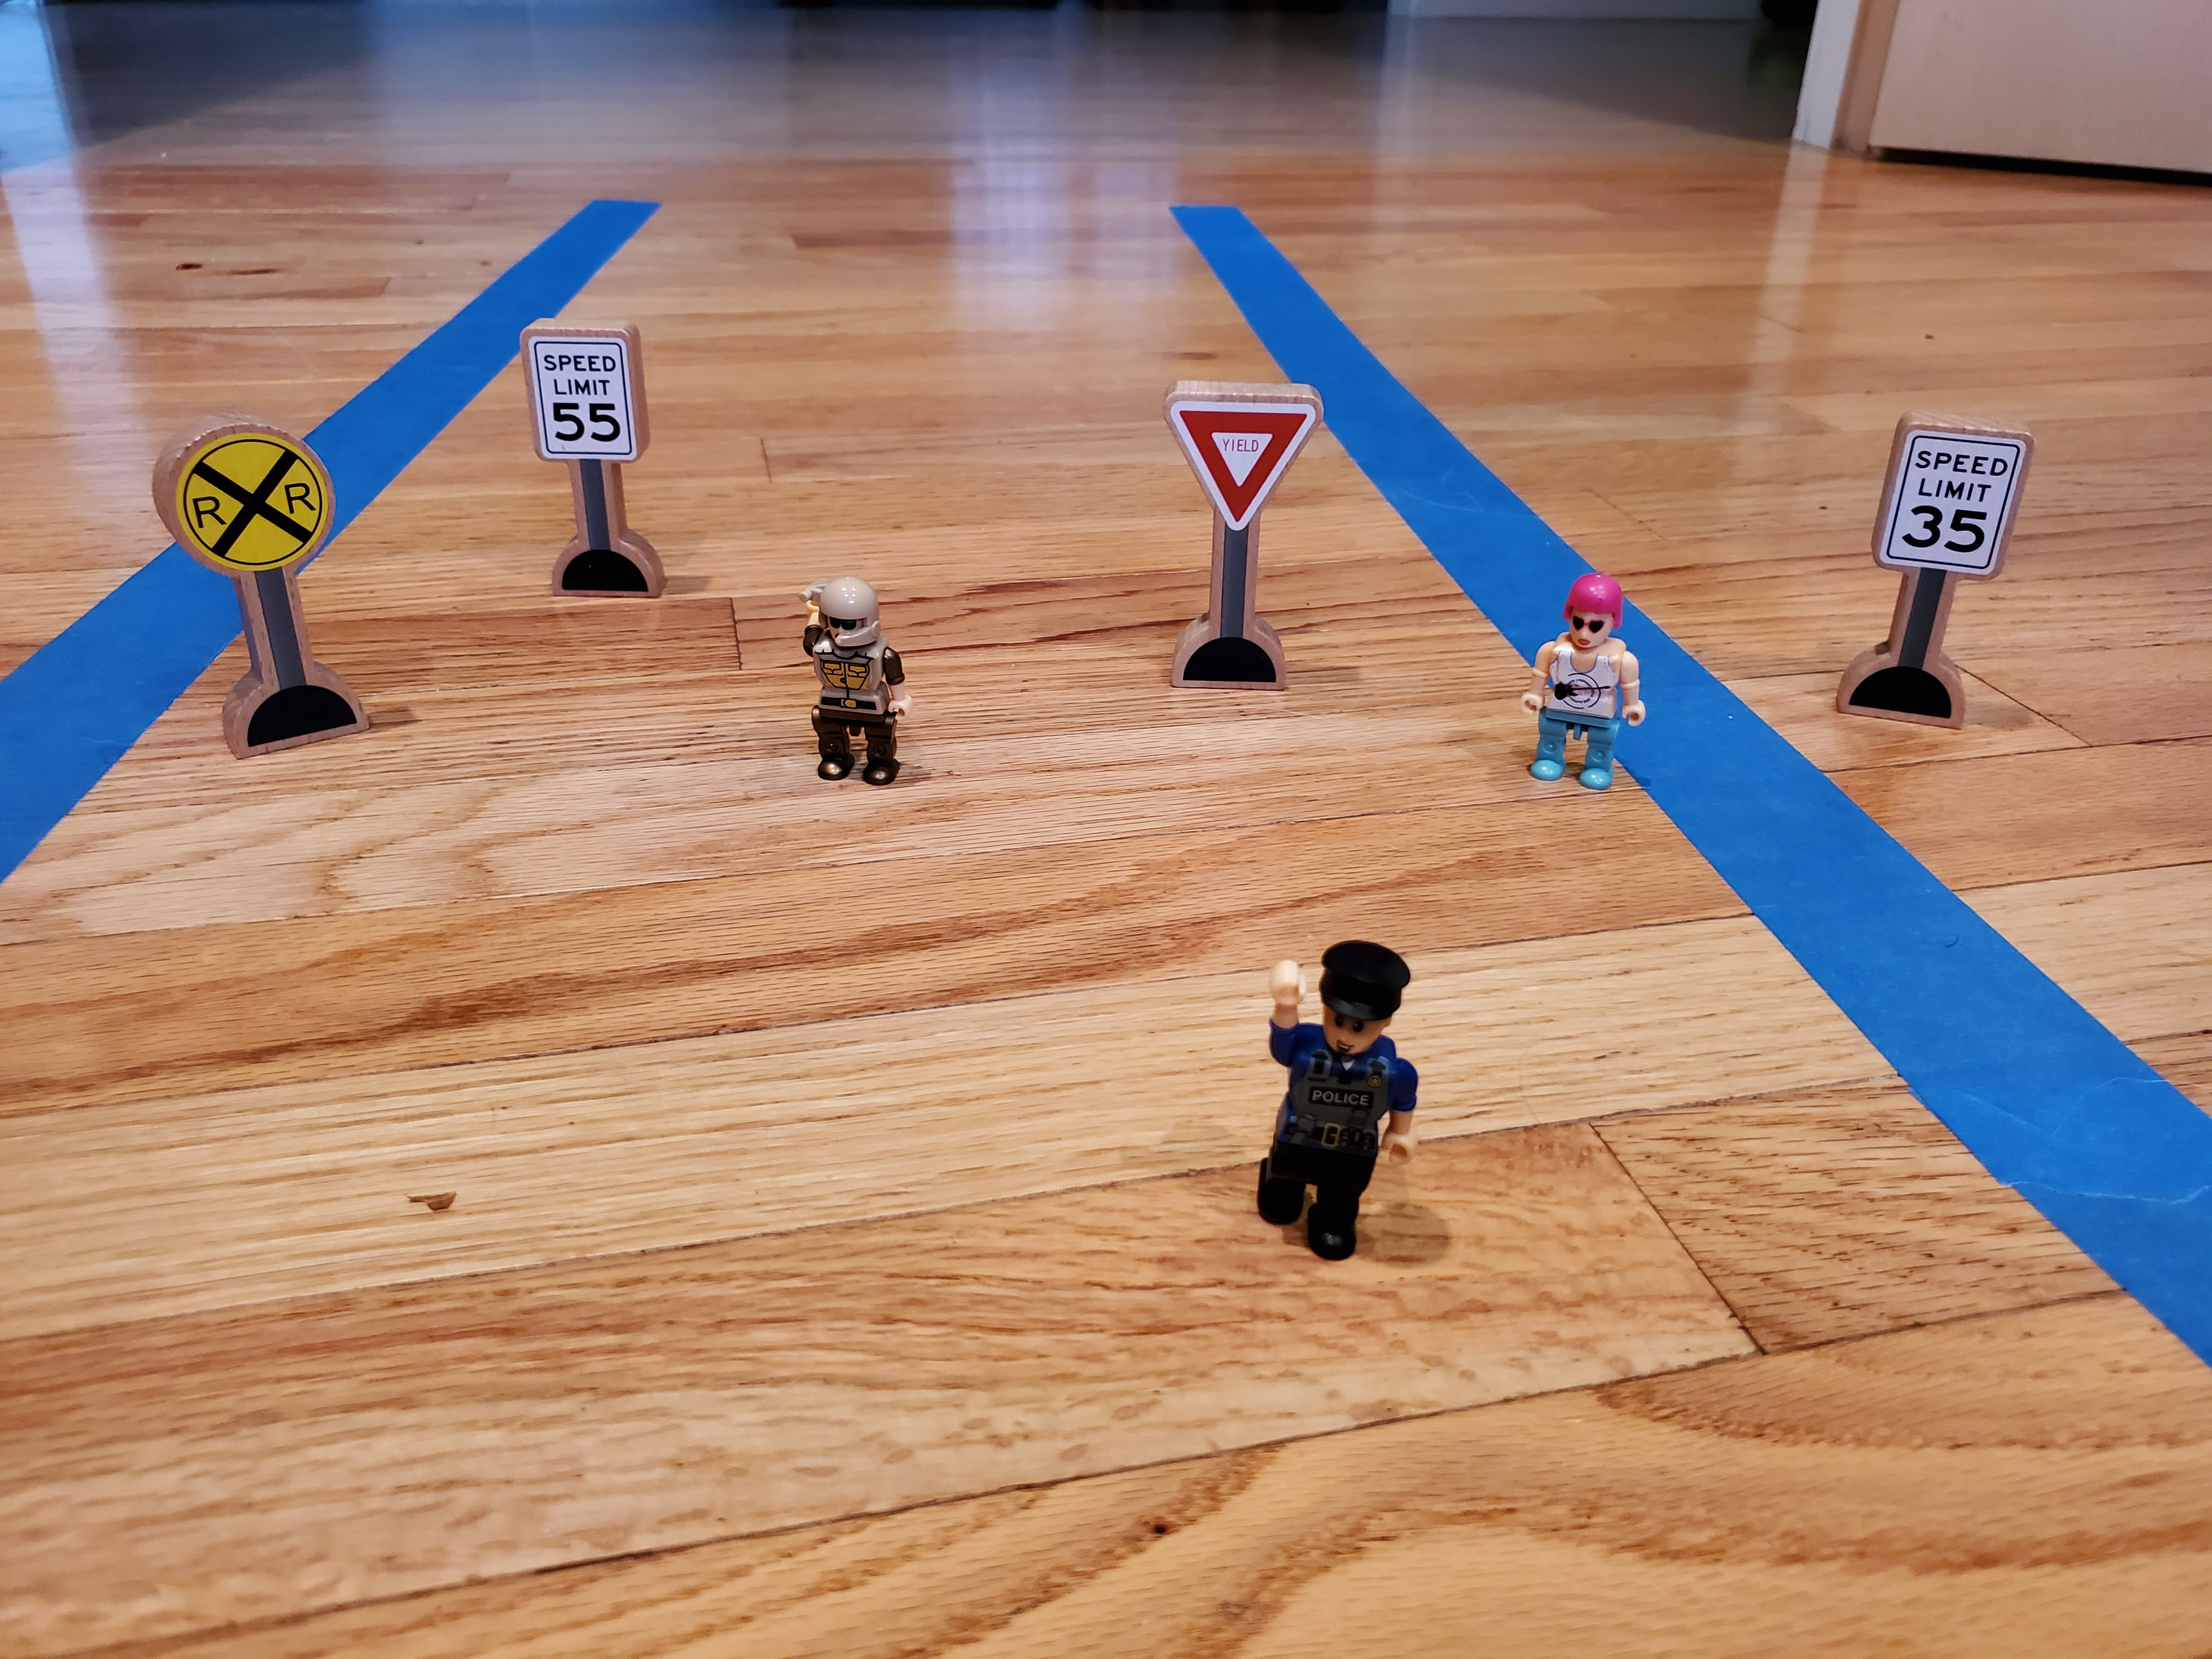Railroad Crossing: (159, 417, 345, 570)
Speed Limit 35: (1871, 399, 2045, 595)
Speed Limit 55: (515, 323, 652, 466)
Yield Sign: (1156, 372, 1325, 544)
person: (1257, 930, 1421, 1267), (1524, 568, 1646, 808), (791, 572, 914, 791)
